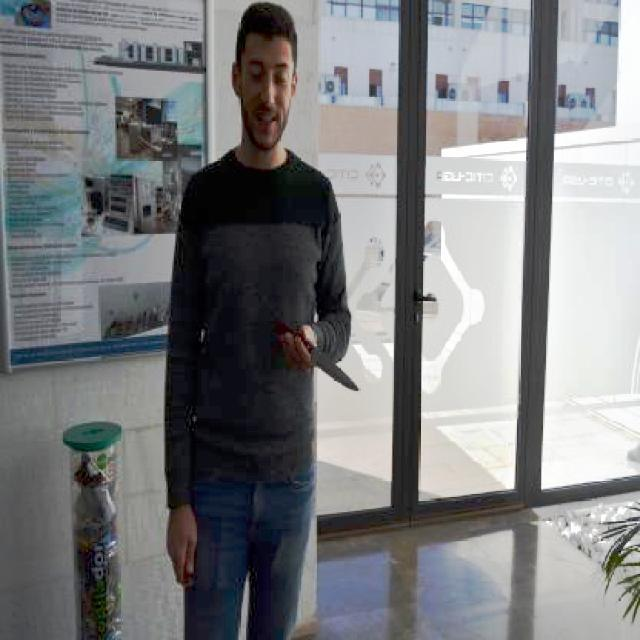Knife: (282, 332, 363, 394)
